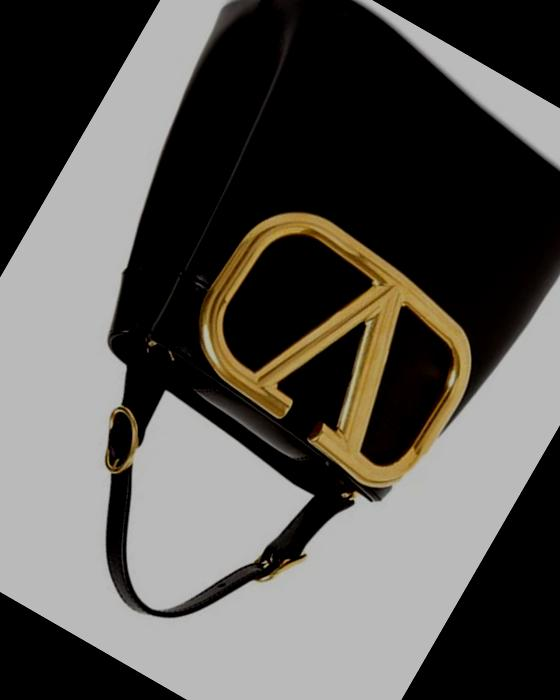VALENTINO: (162, 184, 508, 506)
